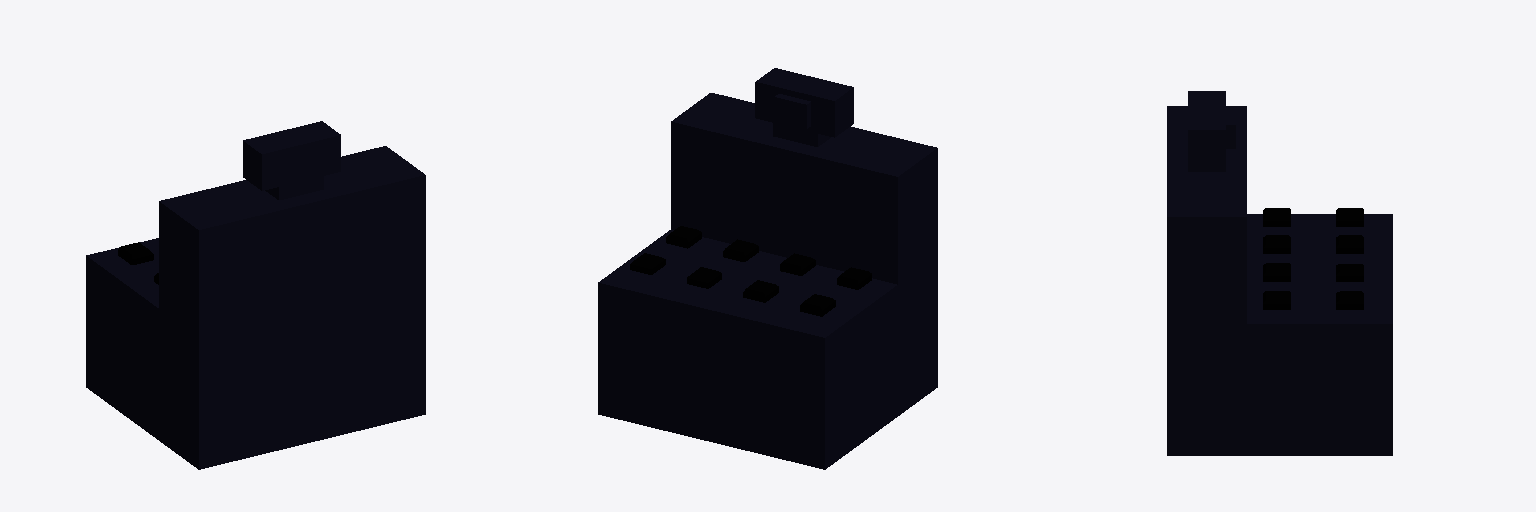
File: kasir.obj
3 views of the same model, side by side, from view 1: azimuth 30°, elevation 25°; view 2: azimuth 150°, elevation 25°; view 3: azimuth 270°, elevation 25° (orthographic).
Visible parts, largest first — view 1: Cube.009_Cube.090, Cube.075_Cube.156; view 2: Cube.009_Cube.090, Cube.075_Cube.156; view 3: Cube.009_Cube.090, Cube.075_Cube.156.
Boxes of the visible parts, box(x1,y1,x2,y2) form: Cube.009_Cube.090: box(86, 121, 425, 469); Cube.075_Cube.156: box(118, 242, 158, 284); Cube.009_Cube.090: box(598, 68, 937, 469); Cube.075_Cube.156: box(630, 226, 871, 316); Cube.009_Cube.090: box(1167, 91, 1392, 455); Cube.075_Cube.156: box(1263, 208, 1363, 309).
Bounding box in the file's own units: 1.15 × 1.41 × 0.9908.